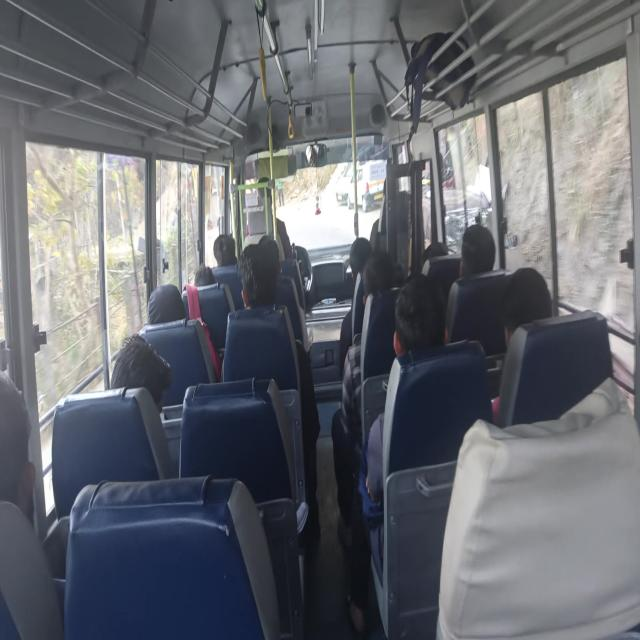person: (0, 364, 31, 566), (110, 328, 166, 416), (402, 281, 466, 358), (131, 291, 189, 360), (493, 272, 547, 341), (232, 258, 274, 312), (449, 233, 484, 287), (372, 250, 404, 300), (342, 243, 380, 283), (254, 236, 284, 284), (214, 225, 243, 270), (183, 268, 218, 304), (425, 240, 445, 266)
